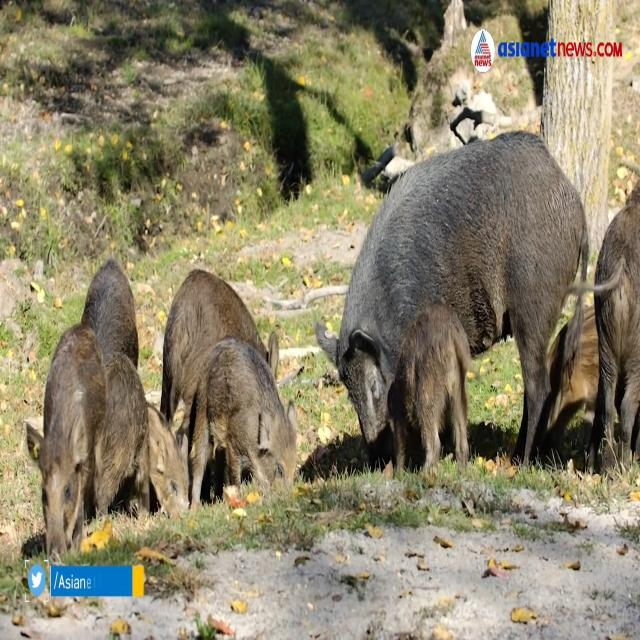ELEPHANT: (185, 366, 301, 492), (397, 330, 483, 444)
WILD BOAR: (311, 128, 595, 439)
